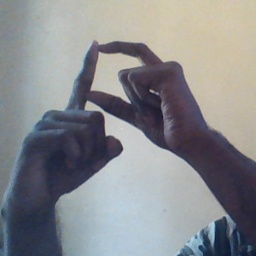D: (49, 34, 167, 158)
